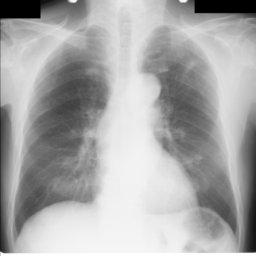left lobe: (143, 27, 236, 230)
right lobe: (15, 27, 109, 234)
